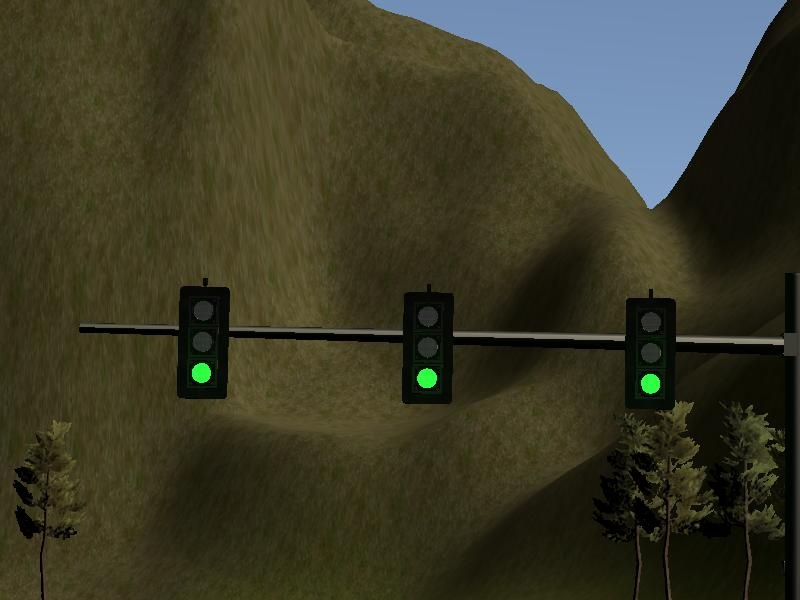GREEN: (624, 297, 676, 407), (401, 291, 453, 401), (178, 286, 230, 396)
